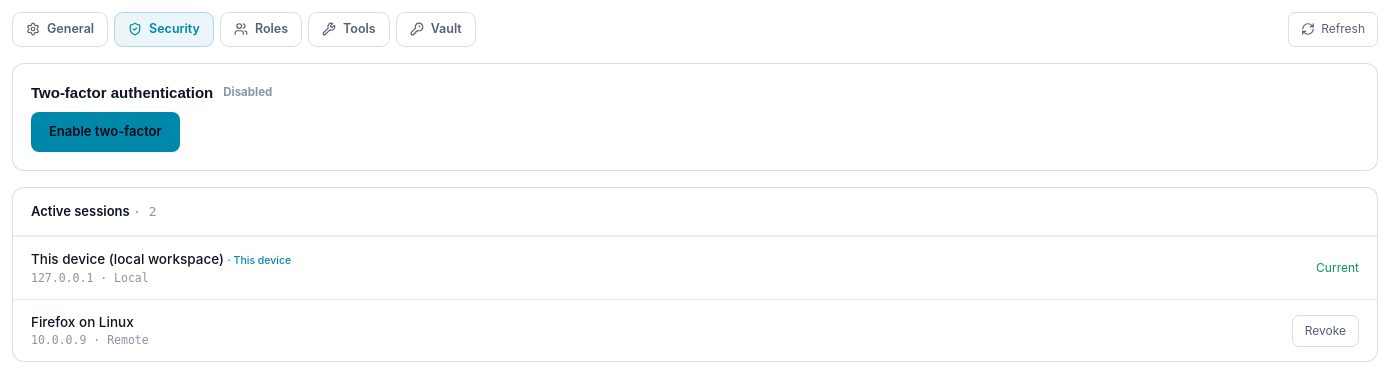
Test case: SettingsPanel — section switch + panels › sessions: revoking a non-current session posts to /revoke and reloads
Expected: the text "Firefox on Linux" is shown, [31,314,134,330]
Click the button "Revoke": (1325, 330) [1292,314,1359,346]
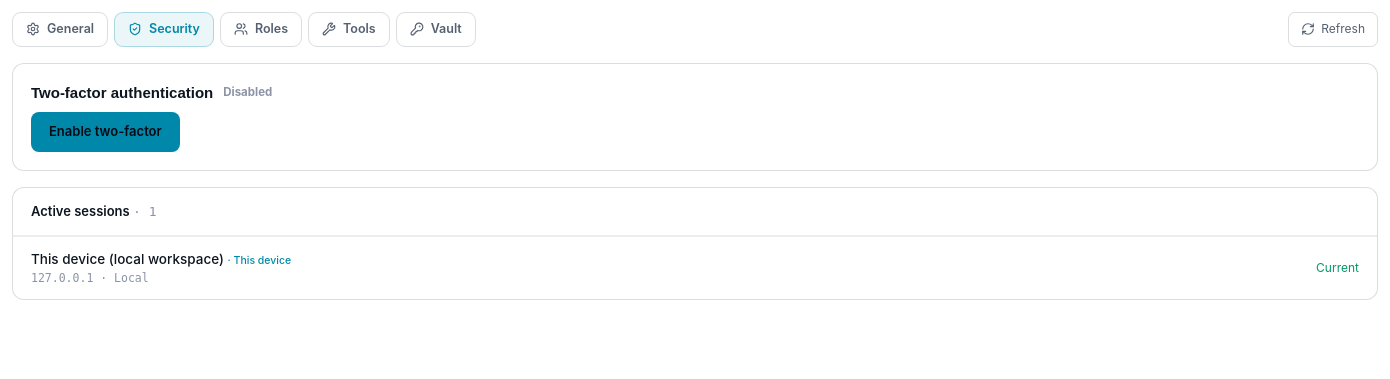
Expected: the text "Firefox on Linux" is gone
